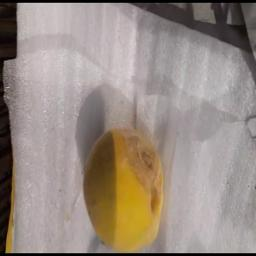Peach Rotten: (72, 118, 177, 252)
